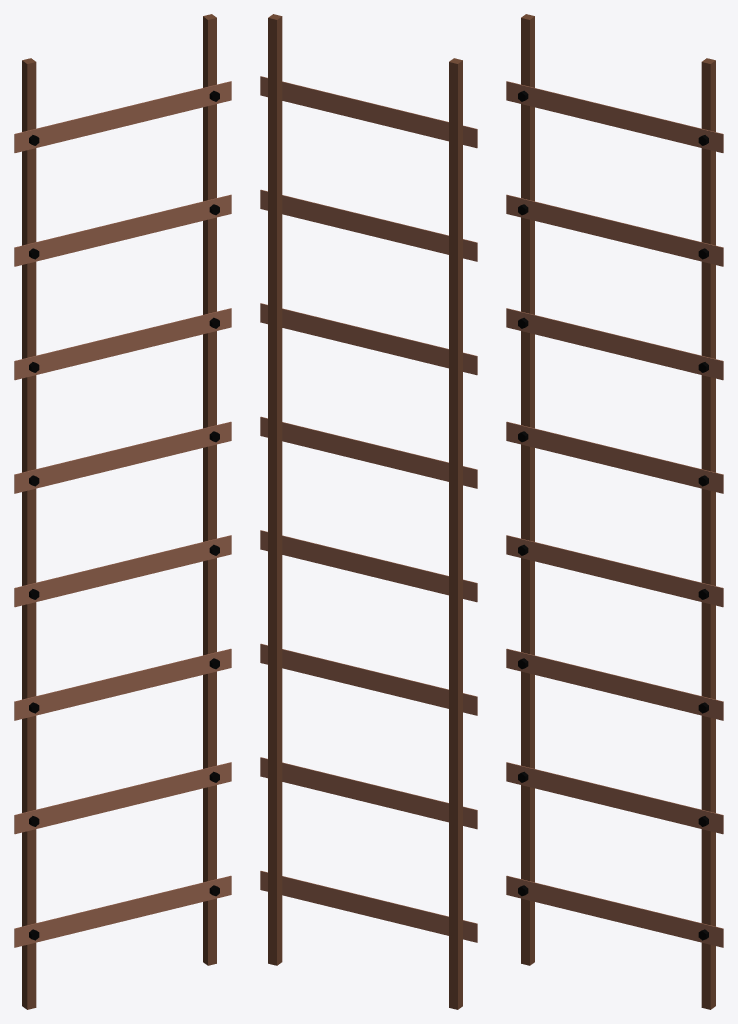
File: echelle.fbx
3 renders of one model, left to right at view 1: azimuth 30°, elevation 25°; view 2: azimuth 150°, elevation 25°; view 3: azimuth 330°, elevation 25°, orthographic.
Parts seen in each view (by area): view 1: Plane, Cube, Cube.001, Cylinder; view 2: Plane, Cube.001, Cube; view 3: Plane, Cube.001, Cube, Cylinder.
Part boxes in pixels (x1,y1,x2,y2): Plane: (14,81,231,947); Cube: (22,58,36,1009); Cube.001: (203,14,216,965); Cylinder: (29,90,219,940); Plane: (260,76,477,942); Cube.001: (268,14,282,965); Cube: (449,58,462,1009); Plane: (506,81,723,947); Cube.001: (701,58,715,1009); Cube: (521,14,534,965); Cylinder: (518,90,708,940).
Size of the model in its own units: 2400 by 10000 by 170.
